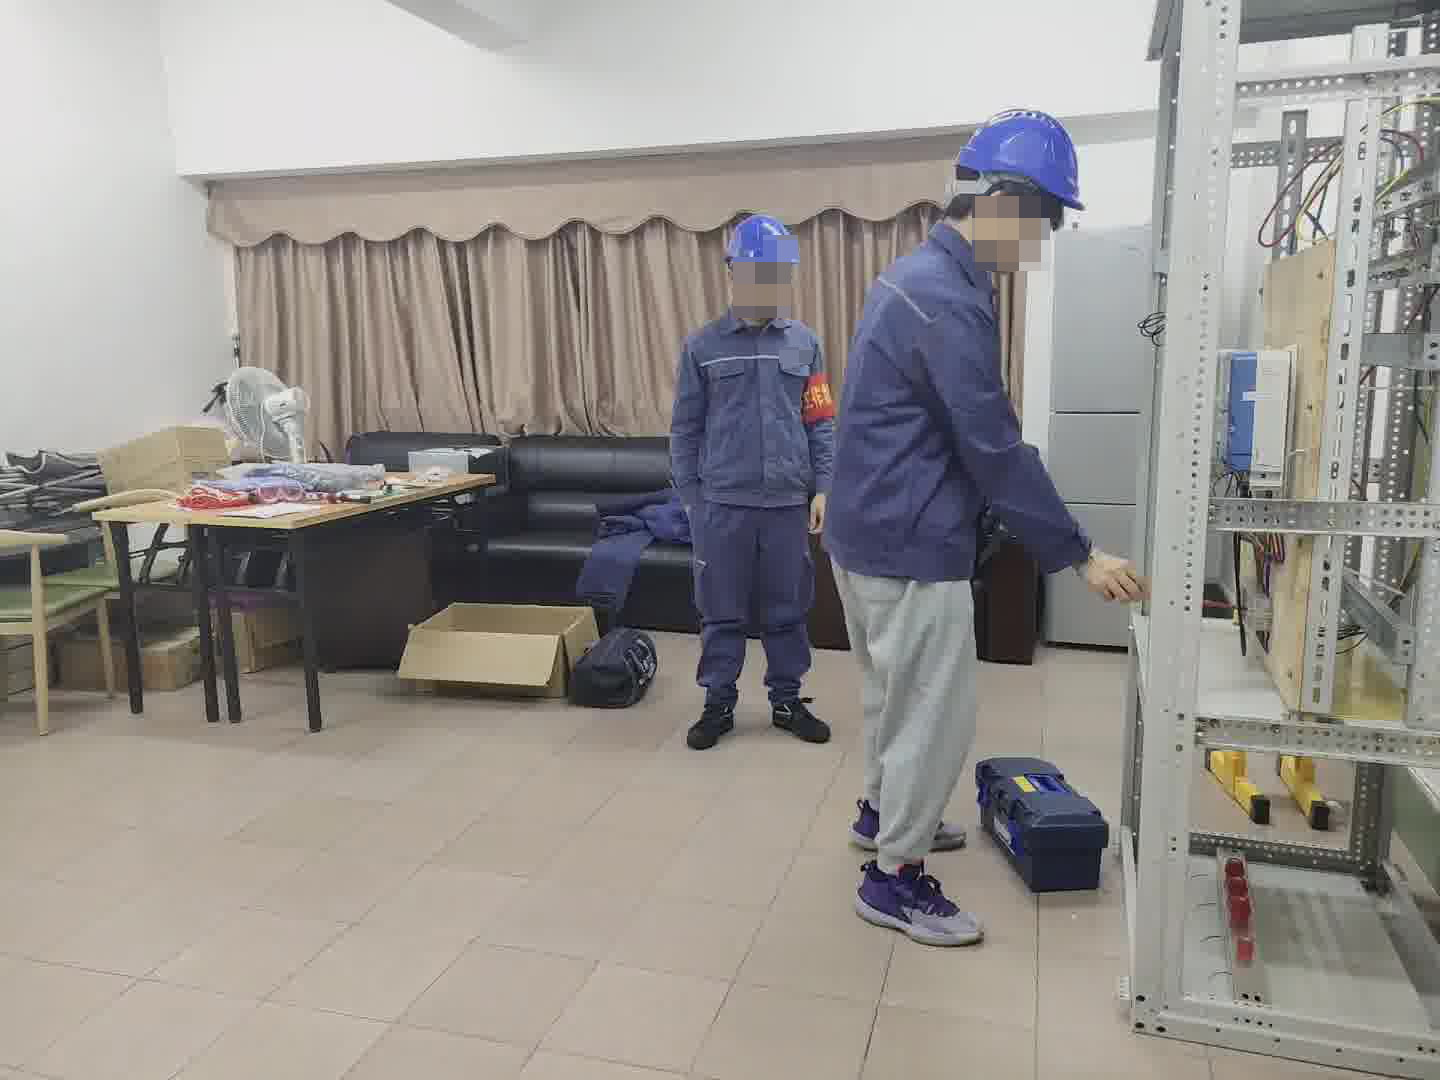badge: (800, 374, 838, 428)
downcloth: (827, 559, 982, 875)
downsuit: (695, 523, 816, 708)
halt: (947, 111, 1084, 267), (719, 211, 805, 319)
hand: (1085, 554, 1148, 613), (806, 494, 829, 536)
inear: (725, 256, 745, 304)
noear: (960, 189, 1048, 265)
person: (822, 107, 1147, 959), (673, 205, 831, 750)
upsuit: (835, 223, 1090, 585), (668, 310, 832, 517)
